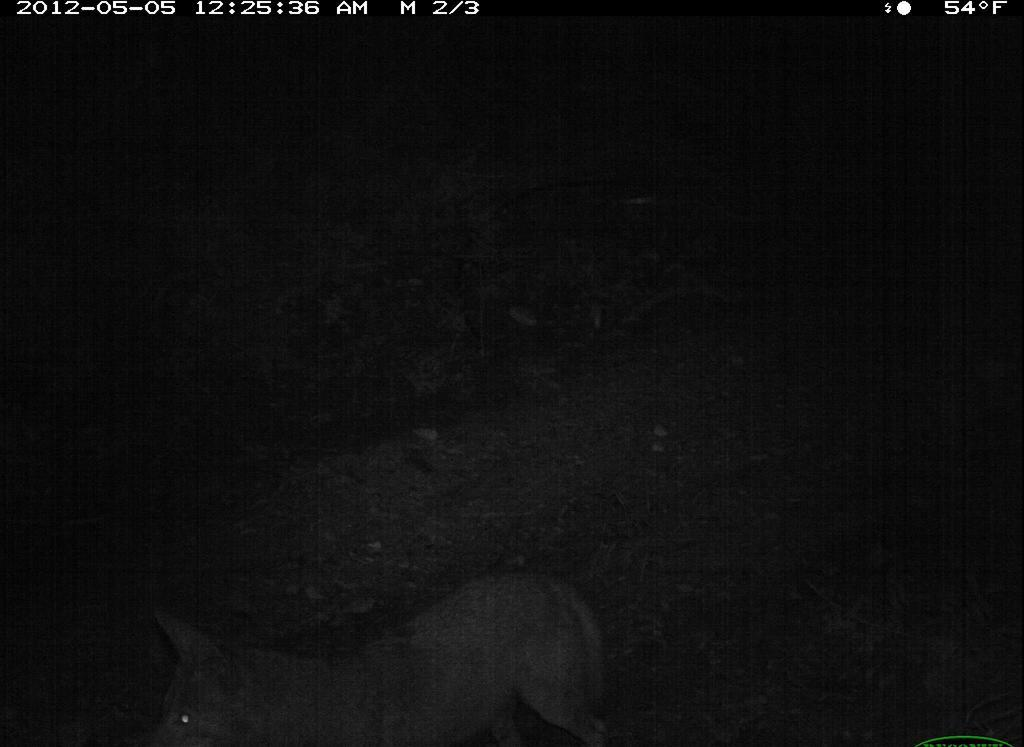coyote: (136, 557, 613, 747)
